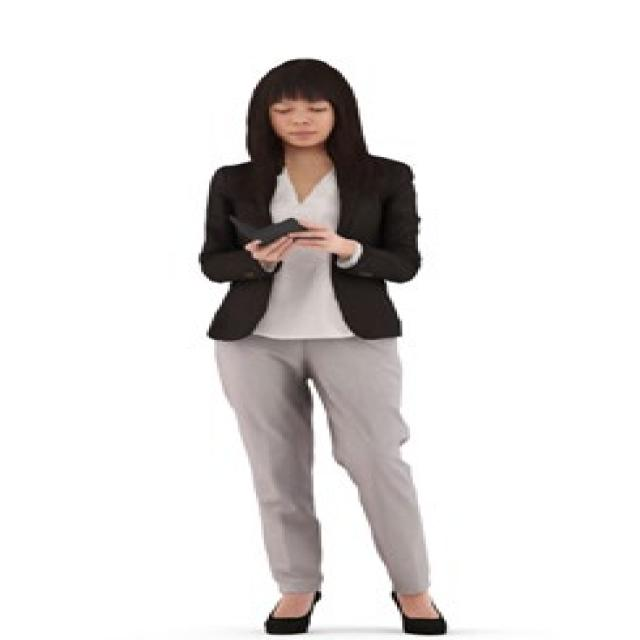standing: (189, 56, 446, 640)
